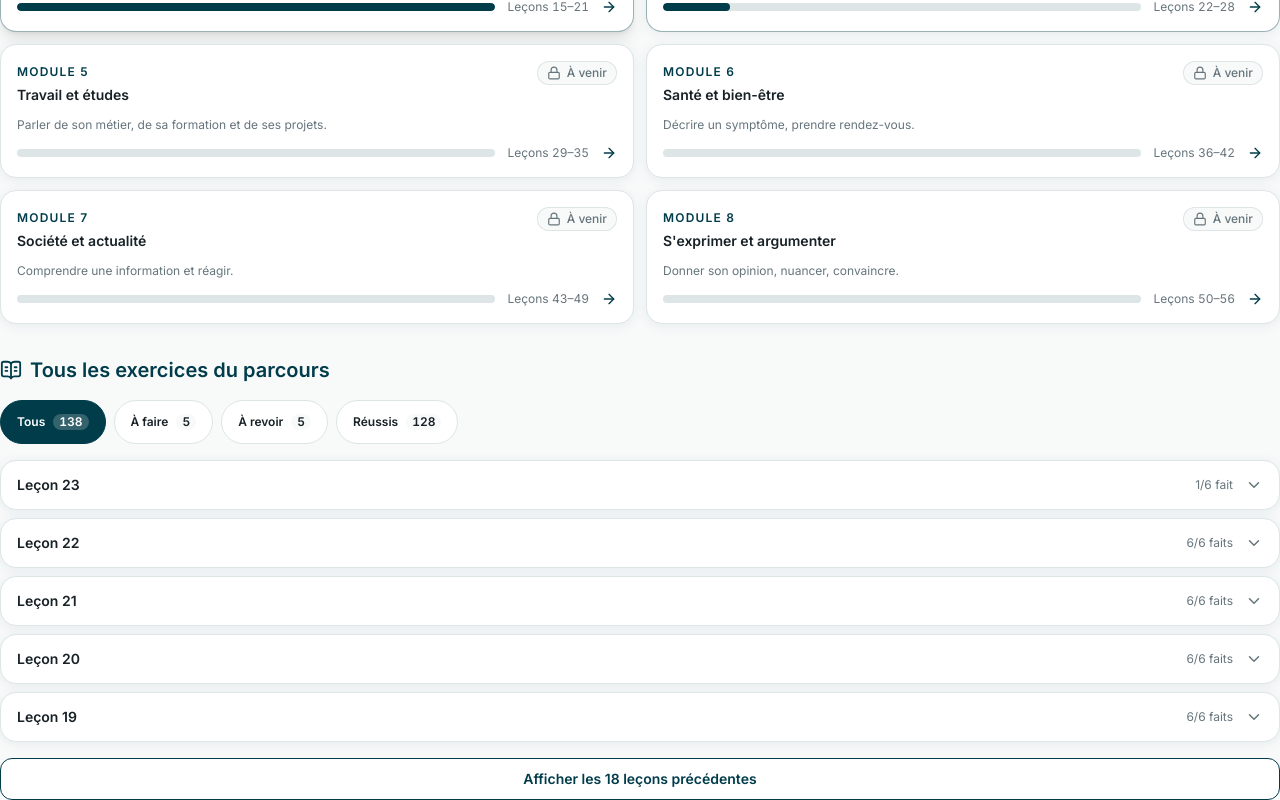
it: Exercices du parcours (US42) › affiche les leçons récentes puis les précédentes à la demande
This screenshot has width=1280, height=800.
(page scrolled)
Check: the heading "Tous les exercices du parcours" is shown, box [0,358,330,382]
Click the button "Afficher les 18 leçons précédentes". click: (640, 779)
box: [0,758,1279,799]
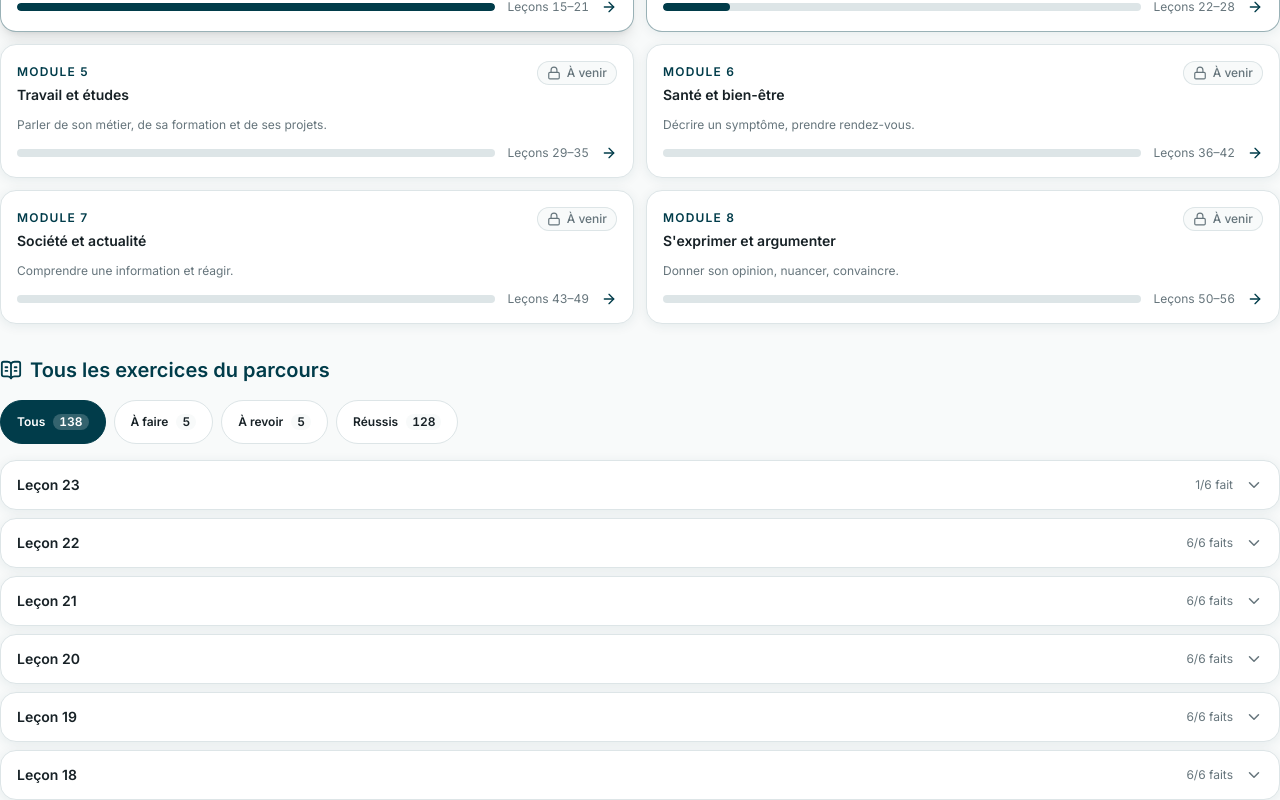
Check: the text "Leçon 23" is shown 23 times
